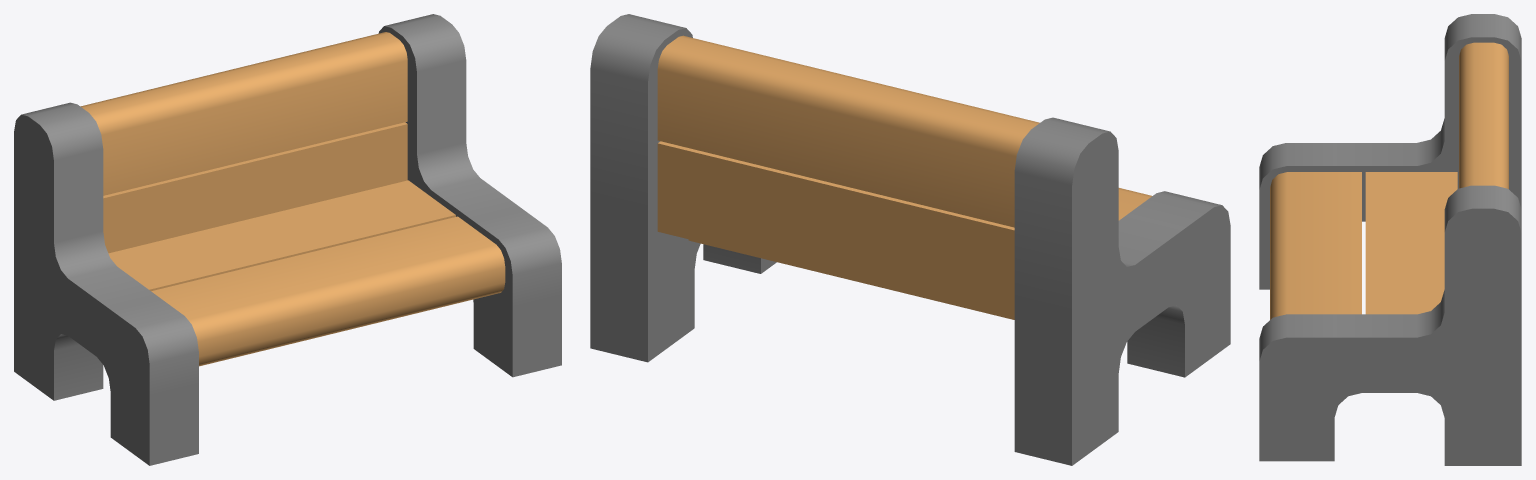
Rendered from sit.fbx.
3 views of the same model, side by side, from view 1: azimuth 30°, elevation 25°; view 2: azimuth 150°, elevation 25°; view 3: azimuth 270°, elevation 25° (orthographic). The views are drawn at different scales.
Visible parts, largest first — view 1: Cube; view 2: Cube; view 3: Cube.
Boxes of the visible parts, x1,y1,x2,y2 form: Cube: (14, 14, 561, 465); Cube: (590, 14, 1230, 465); Cube: (1259, 14, 1521, 465).
Bounding box in the file's own units: 597 × 368 × 340.
